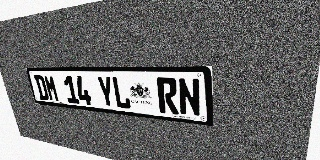1: (62, 76, 80, 104)
4: (74, 76, 92, 105)
D: (34, 75, 50, 101)
L: (111, 76, 131, 110)
M: (43, 75, 60, 102)
N: (177, 78, 201, 117)
R: (156, 77, 179, 115)
Y: (96, 76, 116, 108)
